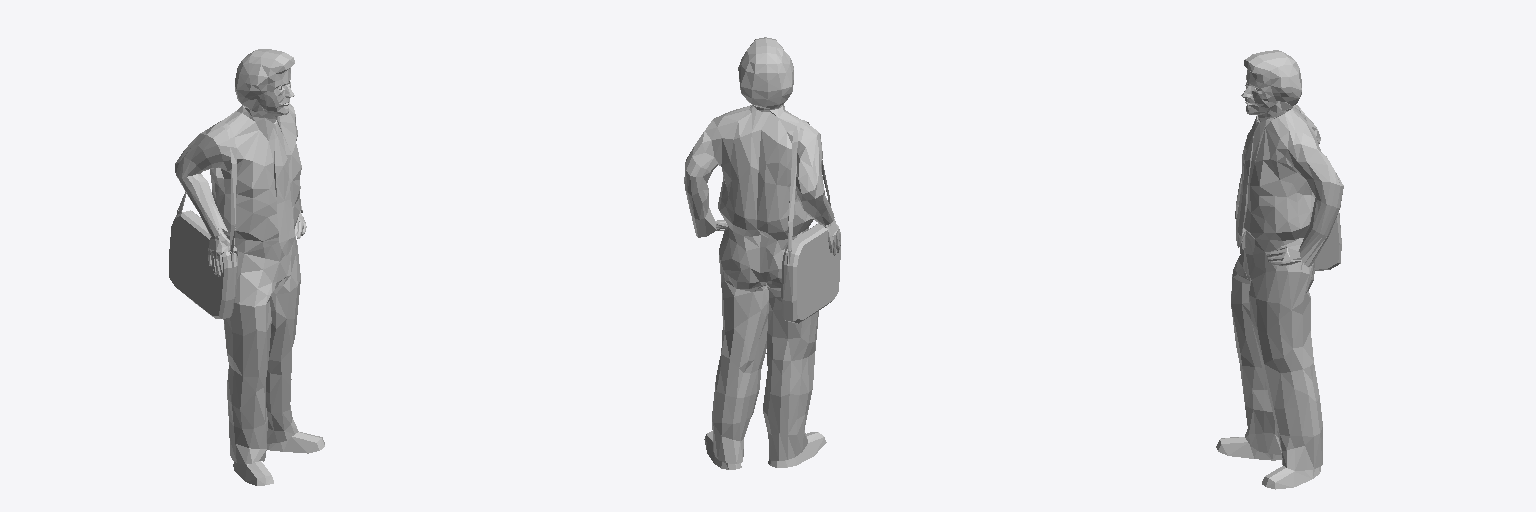
File: business-man.obj
3 views of the same model, side by side, from view 1: azimuth 30°, elevation 25°; view 2: azimuth 150°, elevation 25°; view 3: azimuth 270°, elevation 25° (orthographic).
Visible parts, largest first — view 1: BMan0005-S_0; view 2: BMan0005-S_0; view 3: BMan0005-S_0.
Part boxes in pixels (left/top/right/bottom): BMan0005-S_0: left=169, top=49, right=324, bottom=485; BMan0005-S_0: left=684, top=37, right=840, bottom=469; BMan0005-S_0: left=1216, top=50, right=1343, bottom=489.
Bounding box in the file's own units: 24.8 × 73.91 × 20.75.